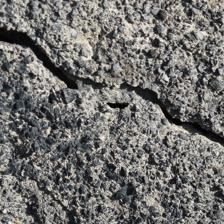Crack: (65, 65, 145, 129), (29, 74, 80, 147)
